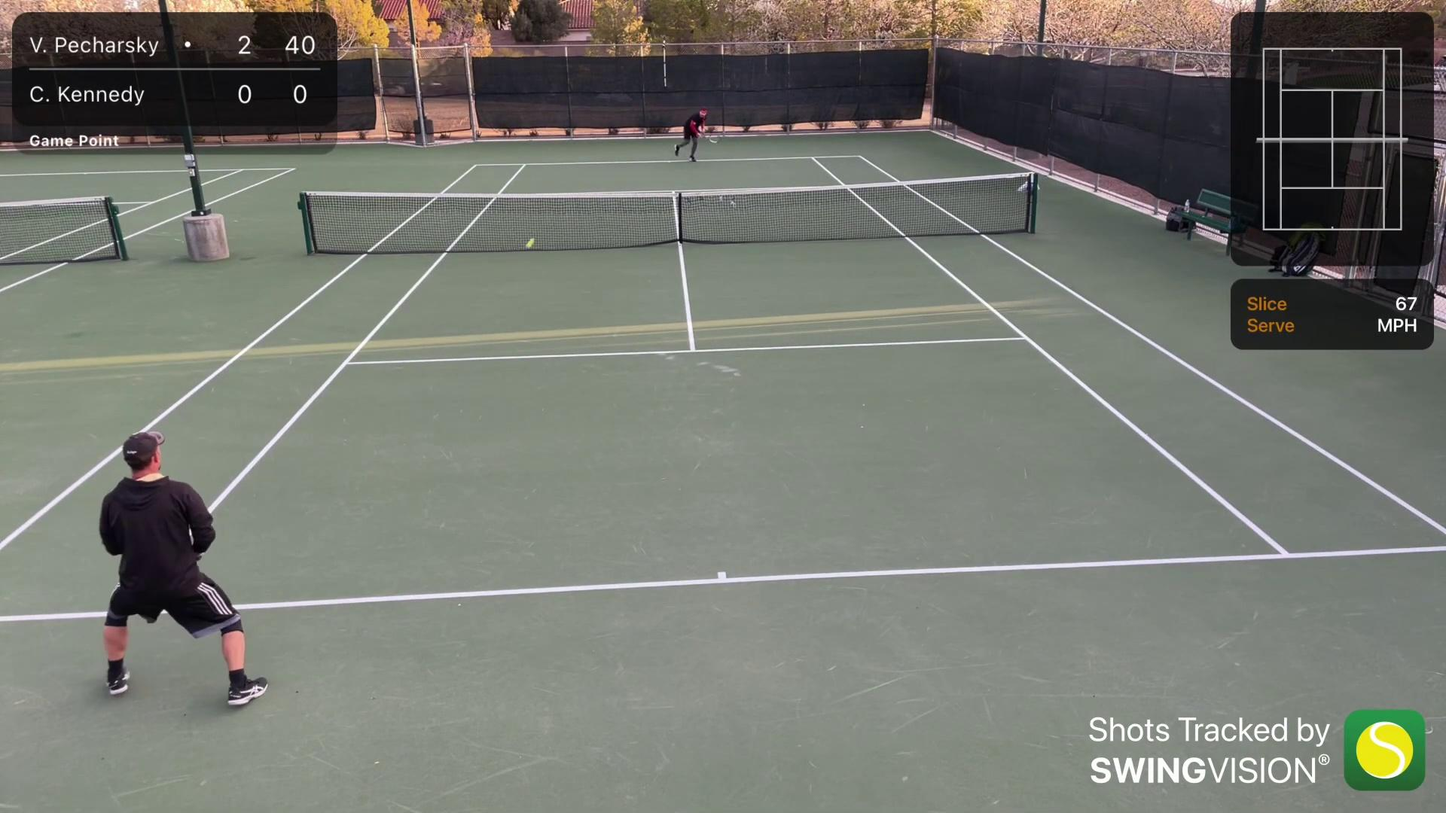ball: (523, 236, 539, 250)
